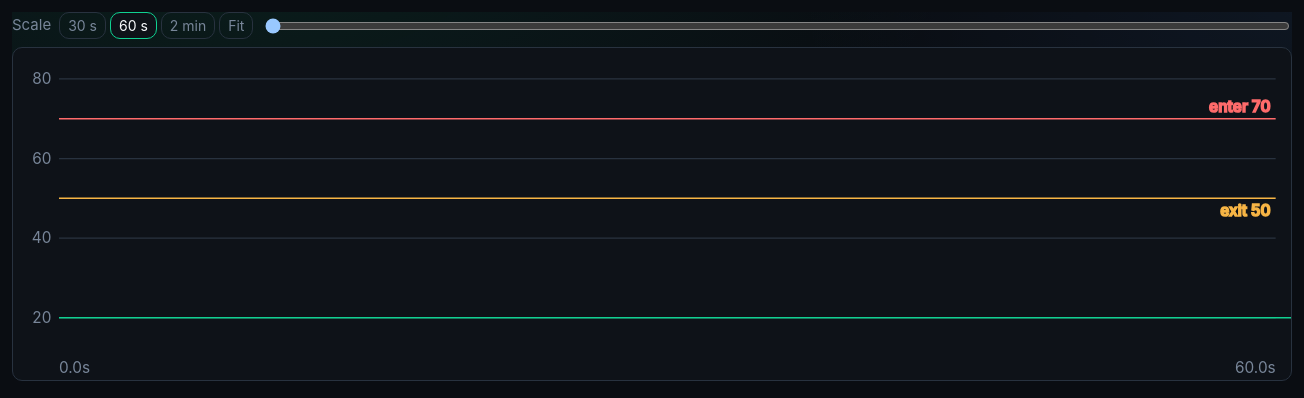
Test: RssiTrace scale › spans the chosen seconds and scrolls when the capture is longer
Expected: the slider named "Scroll the trace" is shown, 266,18 -> 1290,34
// Fit → no scroll, right label is the whole span
Click the button "Fit" at (236, 26), box 219,12 -> 254,39
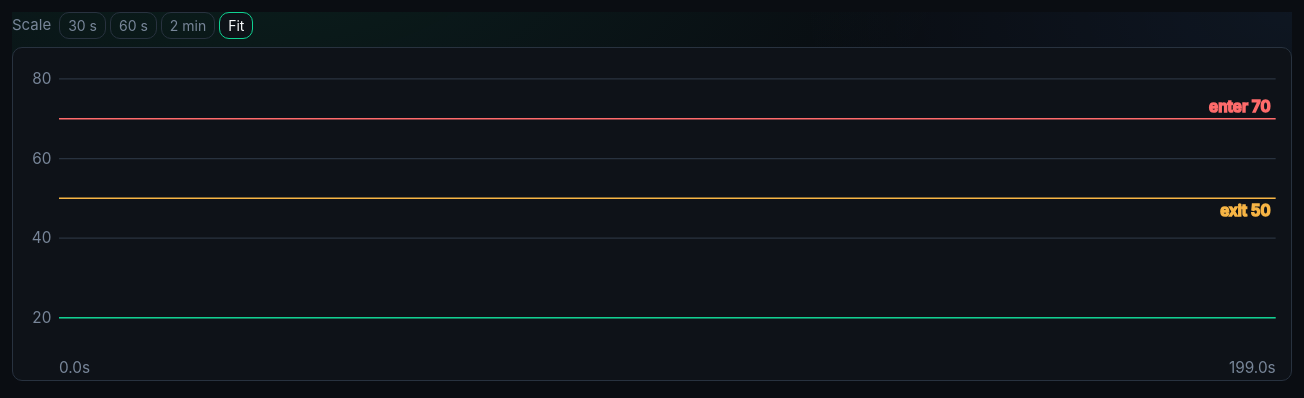
Expected: the text "199.0s" is shown, 1229,358 -> 1276,377
